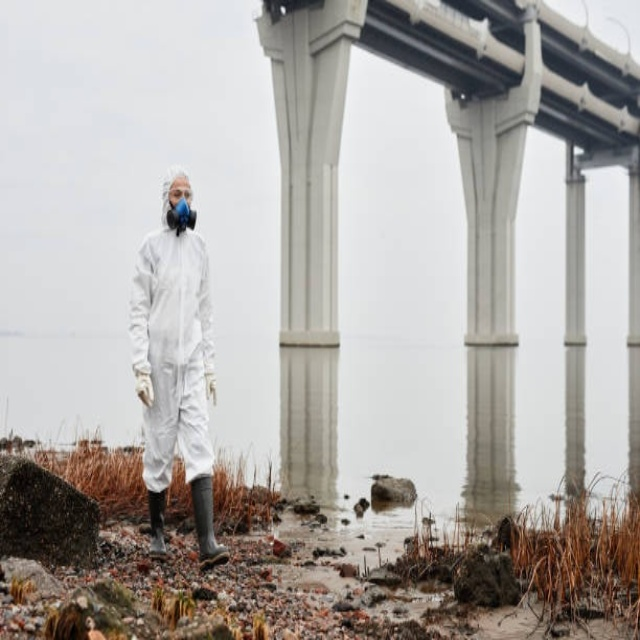Gafas: (169, 188, 192, 199)
Guantes: (135, 371, 154, 407), (206, 374, 217, 406)
Mascara: (165, 198, 196, 237)
